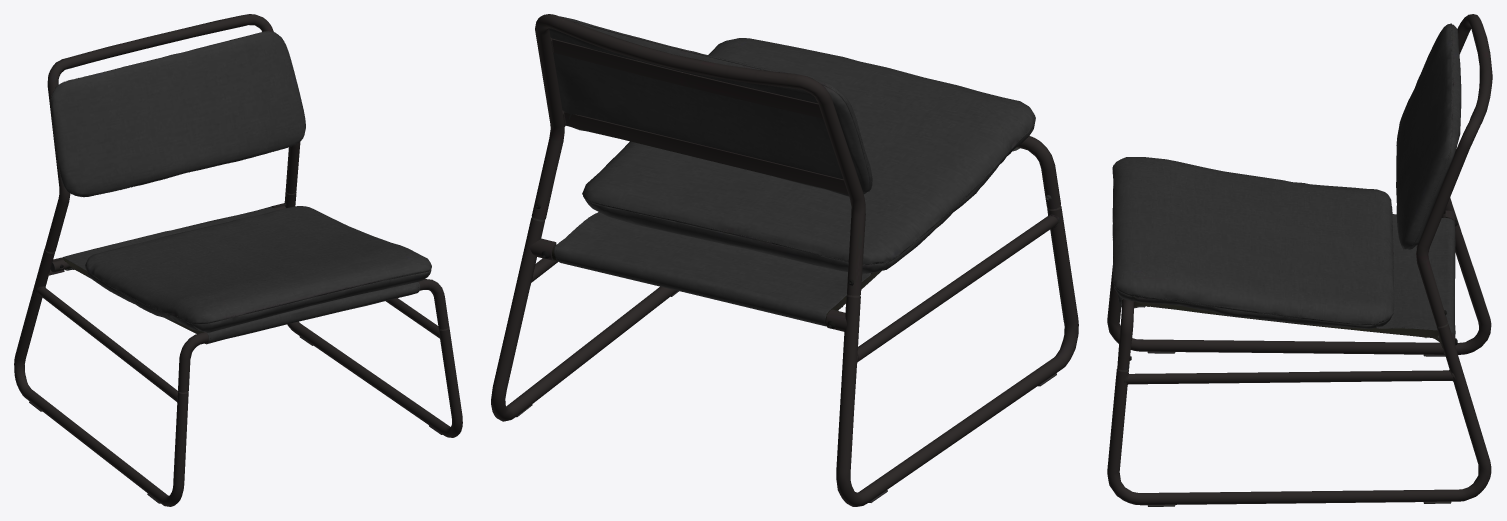
3 renders of one model, left to right at view 1: azimuth 30°, elevation 25°; view 2: azimuth 150°, elevation 25°; view 3: azimuth 270°, elevation 25°, orthographic. The views are drawn at different scales.
Visible parts, largest first — view 1: model; view 2: model; view 3: model.
Boxes of the visible parts, <box> form: model: <box>14,14,462,506</box>; model: <box>491,14,1078,506</box>; model: <box>1107,14,1492,506</box>.
Size of the model in its own units: 0.6807 by 0.7244 by 0.6981.
2 materials, 2 textured.
